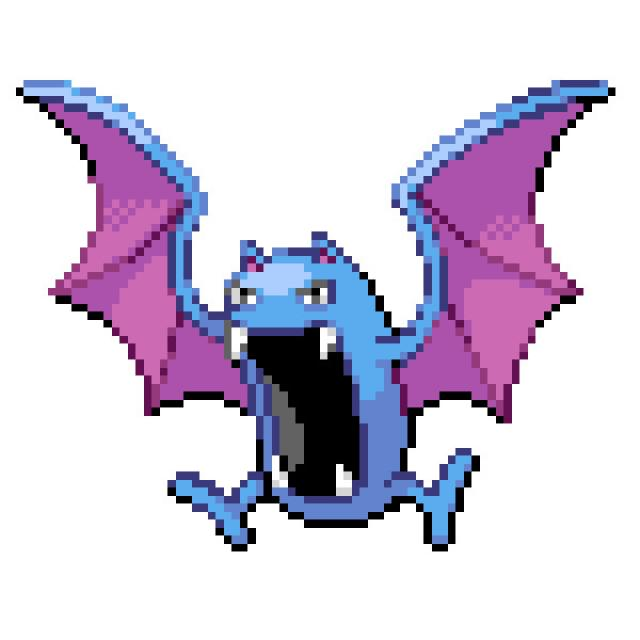Golbat: (131, 180, 515, 552)
